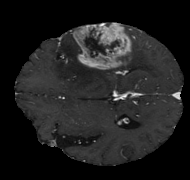Edema: (54, 29, 158, 92)
EnhancingTumors: (75, 25, 129, 69)
Necrosis: (80, 32, 117, 61)
